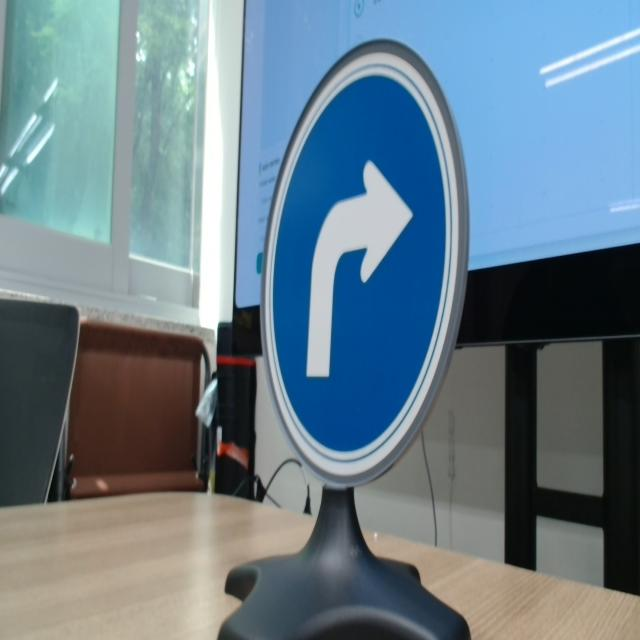right_dierection: (244, 18, 493, 490)
